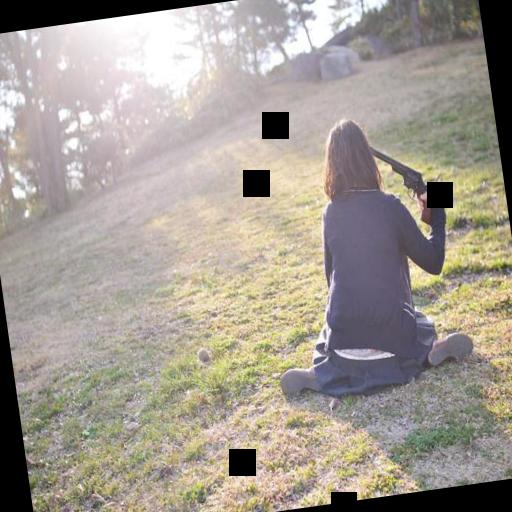Handgun: (360, 127, 442, 237)
